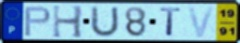8: (124, 6, 148, 38)
H: (51, 3, 84, 39)
P: (23, 5, 53, 37)
T: (160, 7, 183, 38)
U: (88, 5, 120, 39)
V: (186, 6, 217, 39)
